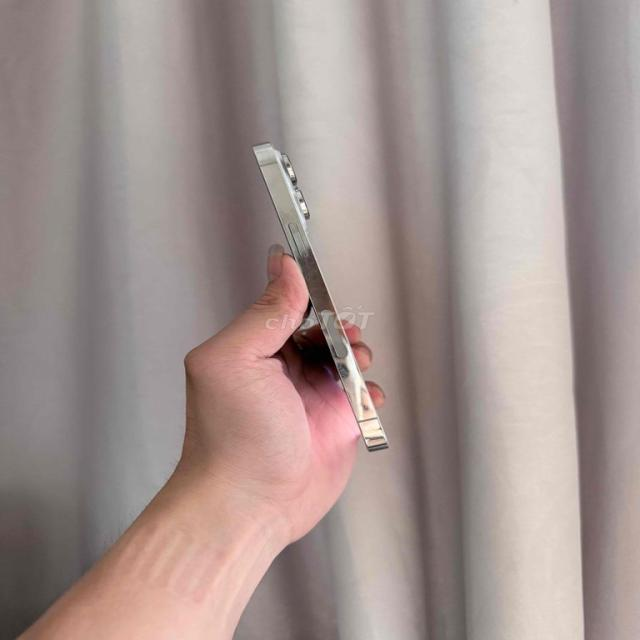gen_14: (251, 138, 405, 464)
